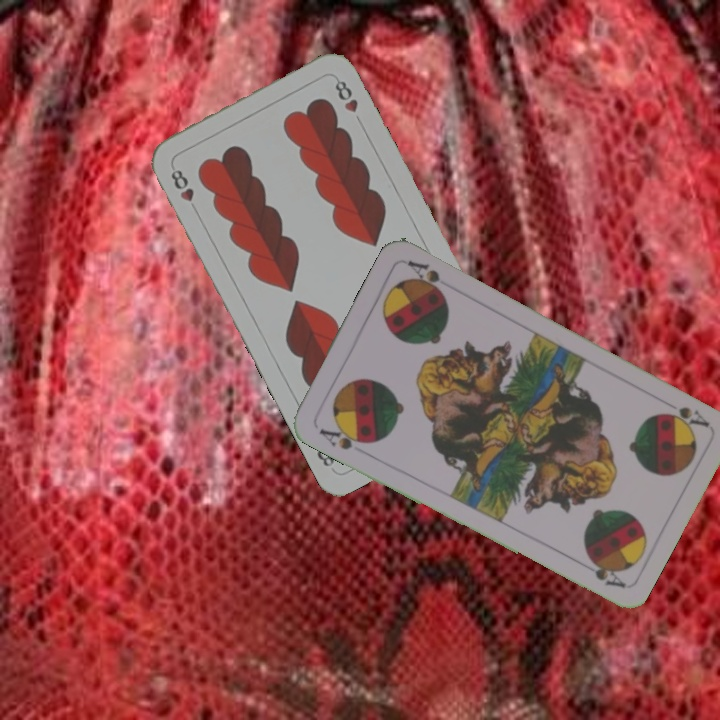H8: (166, 165, 197, 204)
SA: (315, 420, 371, 453), (655, 402, 712, 434)
